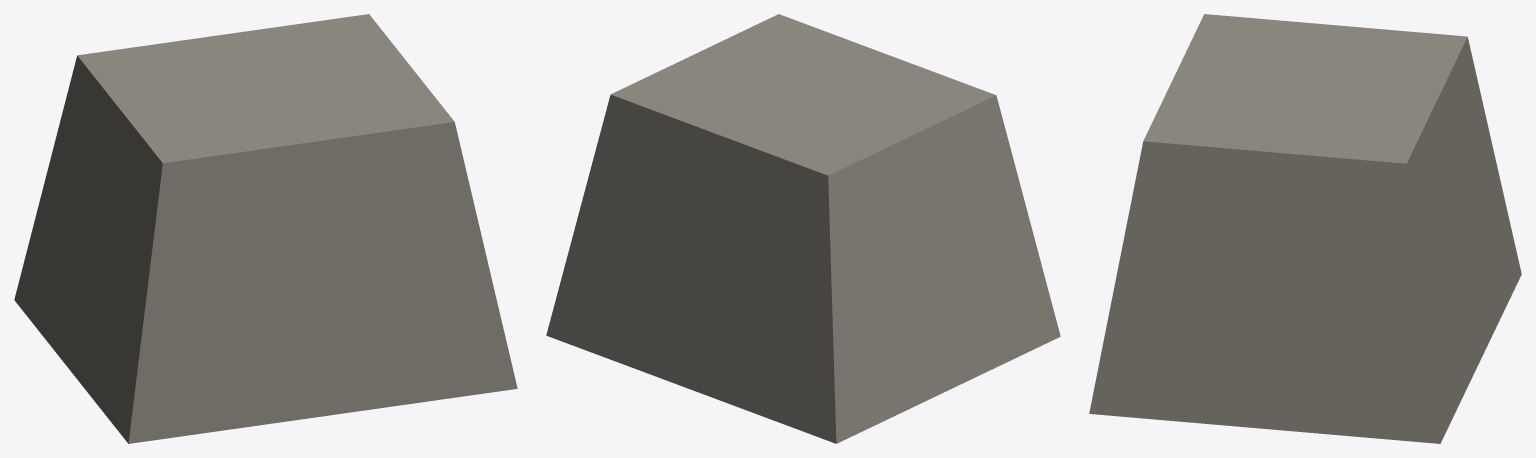
The model's file is stones_1.glb.
3 renders of one model, left to right at view 1: azimuth 30°, elevation 25°; view 2: azimuth 150°, elevation 25°; view 3: azimuth 270°, elevation 25°, orthographic. The views are drawn at different scales.
Visible parts, largest first — view 1: stones_1; view 2: stones_1; view 3: stones_1.
Boxes of the visible parts, x1,y1,x2,y2 form: stones_1: (14,14,517,443); stones_1: (546,14,1060,443); stones_1: (1089,14,1521,443).
Bounding box in the file's own units: 1.85 × 1.1 × 1.69.
Materials: 1 (1 with a texture image).
